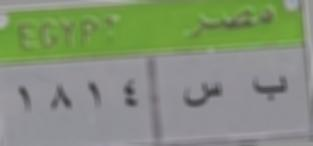1: (15, 81, 36, 115), (87, 77, 106, 112)
4: (116, 76, 143, 111)
8: (48, 82, 74, 114)
baa: (248, 71, 293, 103)
seen: (181, 76, 226, 115)
